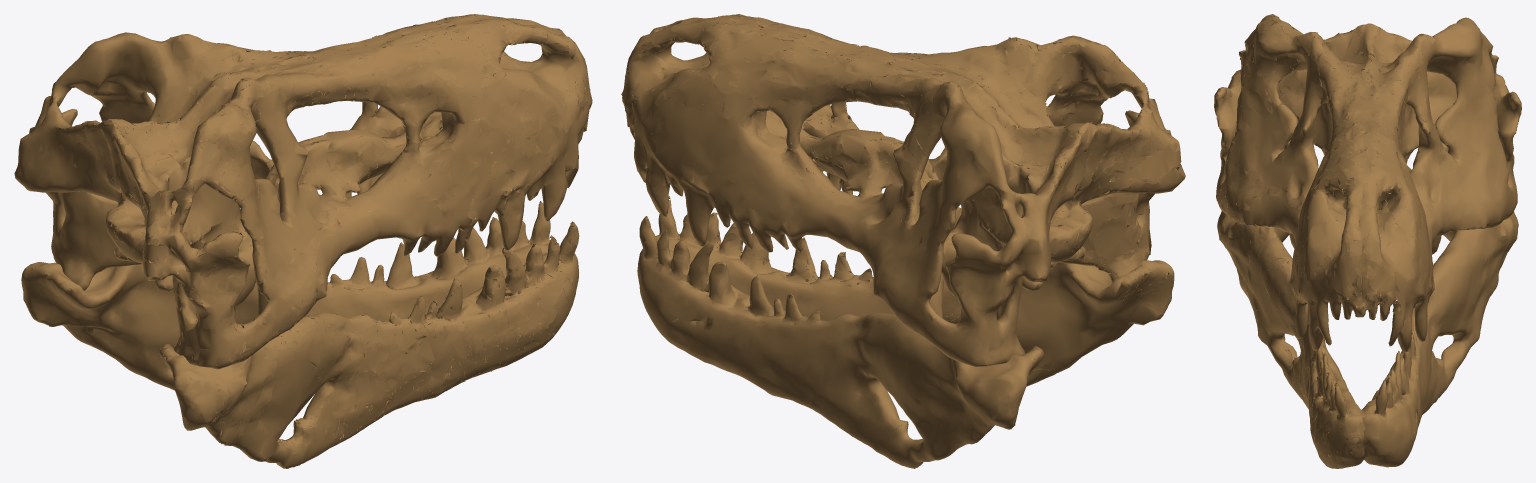
Rendered from trex_skull.glb.
3 renders of one model, left to right at view 1: azimuth 30°, elevation 25°; view 2: azimuth 150°, elevation 25°; view 3: azimuth 270°, elevation 25°, orthographic. The views are drawn at different scales.
Visible parts, largest first — view 1: Object_3, Object_4, Object_2, Object_5; view 2: Object_5, Object_2, Object_3, Object_4; view 3: Object_4, Object_3, Object_2, Object_5.
Boxes of the visible parts, box(x1,y1,x2,y2) form: Object_3: box(98, 14, 592, 468); Object_4: box(70, 14, 590, 367); Object_2: box(21, 201, 579, 461); Object_5: box(14, 32, 425, 445); Object_5: box(640, 57, 1174, 366); Object_2: box(637, 196, 1174, 468); Object_3: box(621, 14, 1180, 386); Object_4: box(622, 14, 1185, 285); Object_4: box(1214, 15, 1456, 352); Object_3: box(1214, 14, 1404, 468); Object_2: box(1217, 211, 1518, 468); Object_5: box(1219, 17, 1521, 341).
Size of the model in its own units: 1439 by 1077 by 875.
